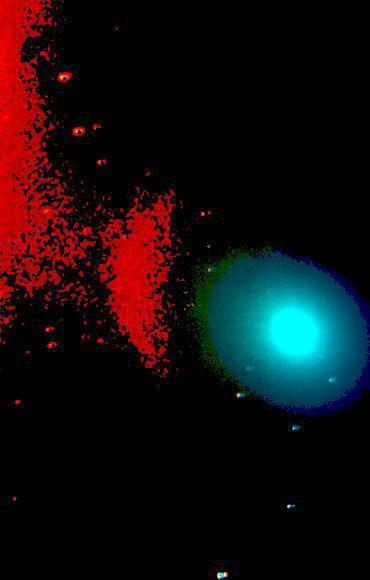star: (208, 363, 238, 393)
